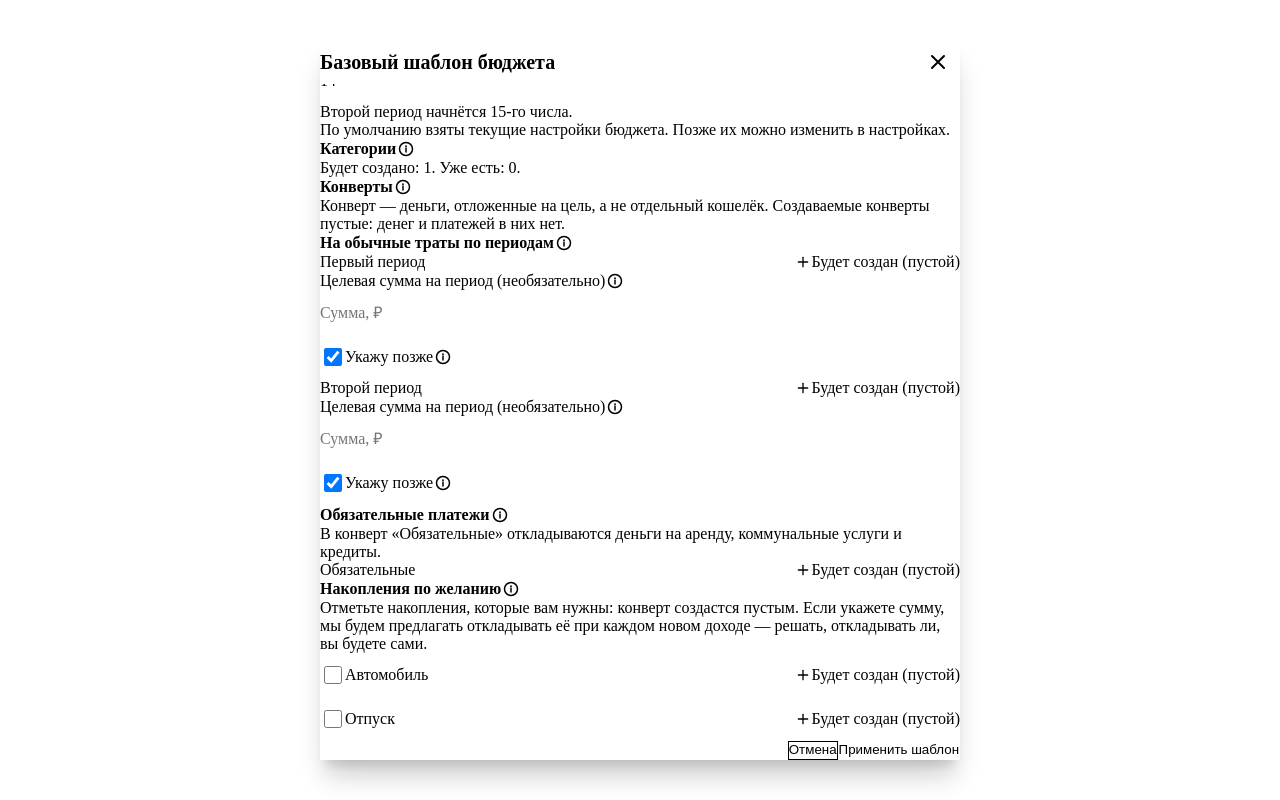
Test: TemplatePreviewSheet envelope groups › explains the savings contribution in plain words
(page scrolled)
What coordinates should you click on to do the following:
click the checkbox with test id "template-savings-v2-savings-car"
I would click on:
 (333, 675)
Its box is x1=324 y1=666 x2=342 y2=684.
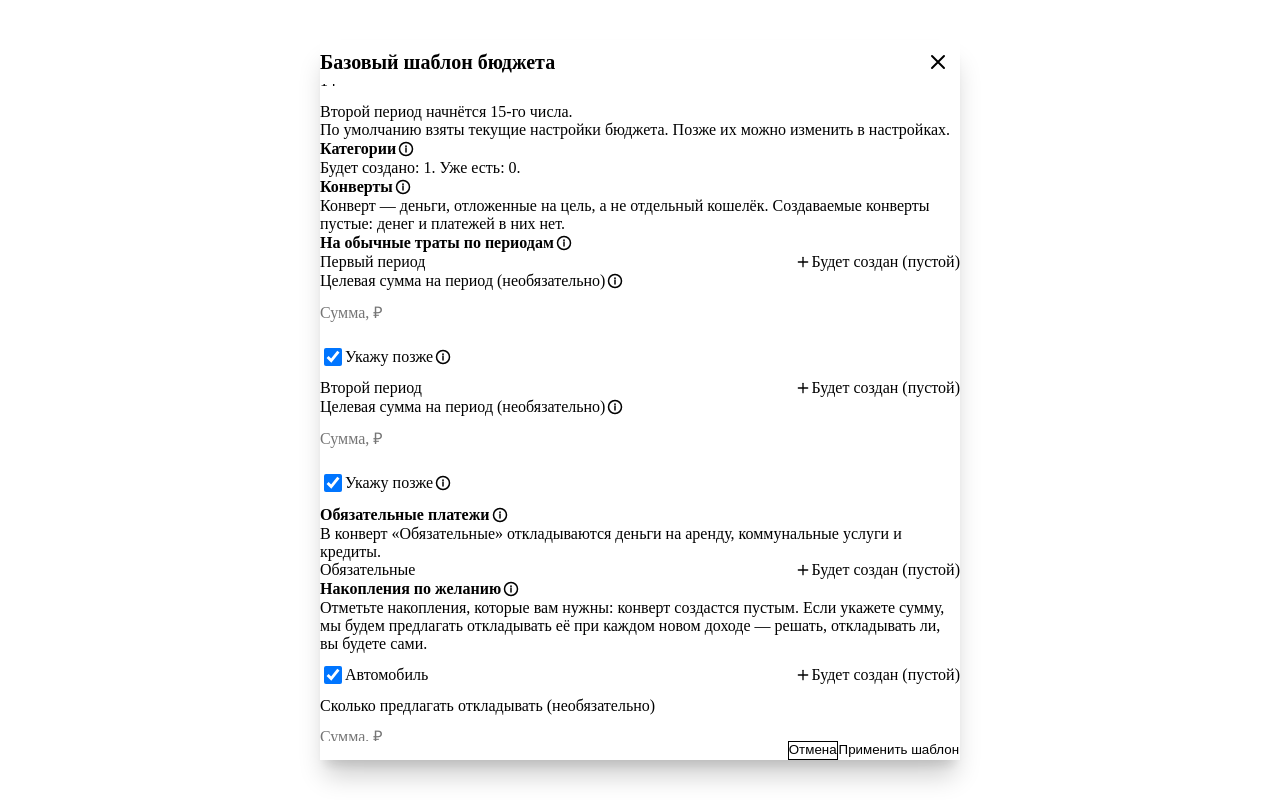
Now the label with test id "template-contribution-v2-savings-car" reads "Сколько предлагать откладывать (необязательно)", box x1=320 y1=697 x2=655 y2=714
